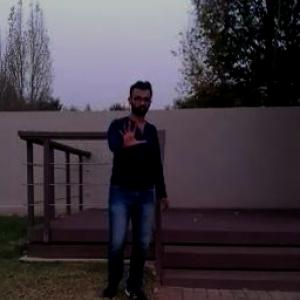follow_hand: (113, 115, 148, 153)
